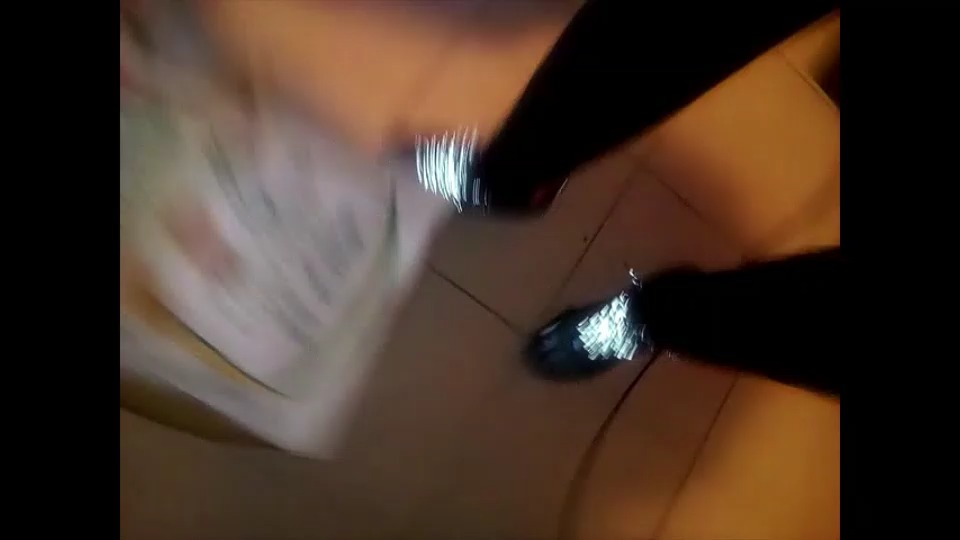maize_flour_green_label: (120, 6, 450, 457)
